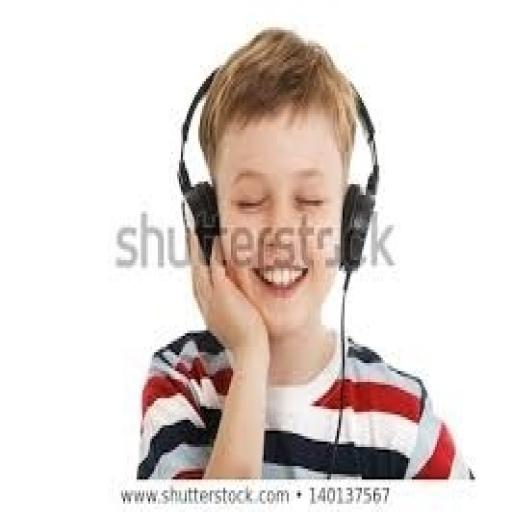listening_to_music: (133, 24, 477, 482)
